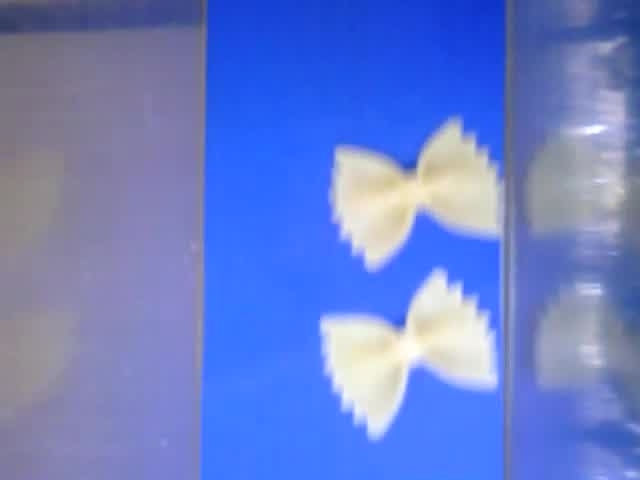farfalle: (317, 265, 500, 440), (330, 116, 506, 274)
